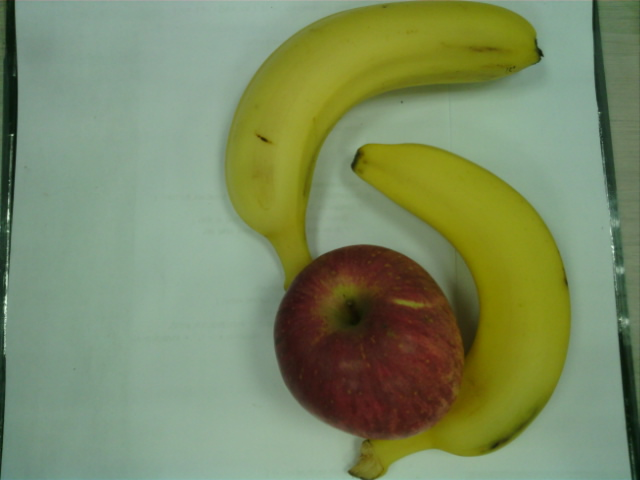normal_apple: (274, 244, 461, 438)
normal_banana: (223, 2, 541, 298), (352, 143, 571, 480)
